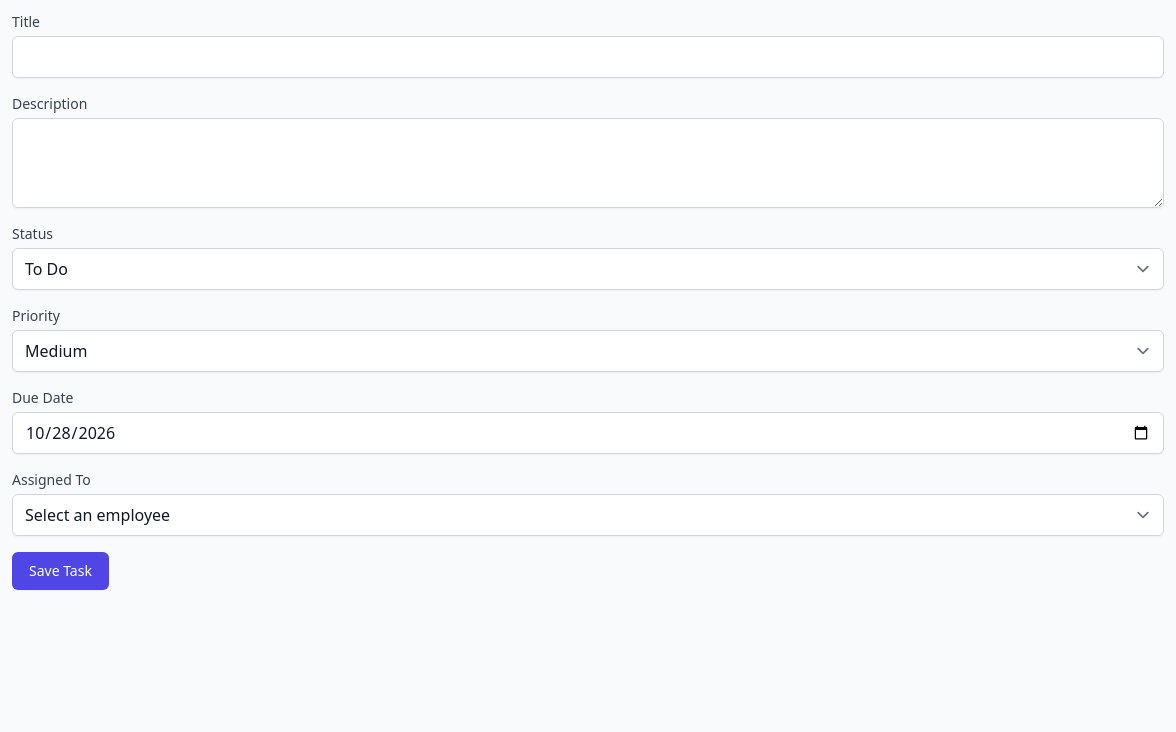
it: TaskForm › clears the title error as soon as the user types
This screenshot has width=1176, height=732.
Click the button "Save Task".
click(60, 571)  # box [12,552,109,590]
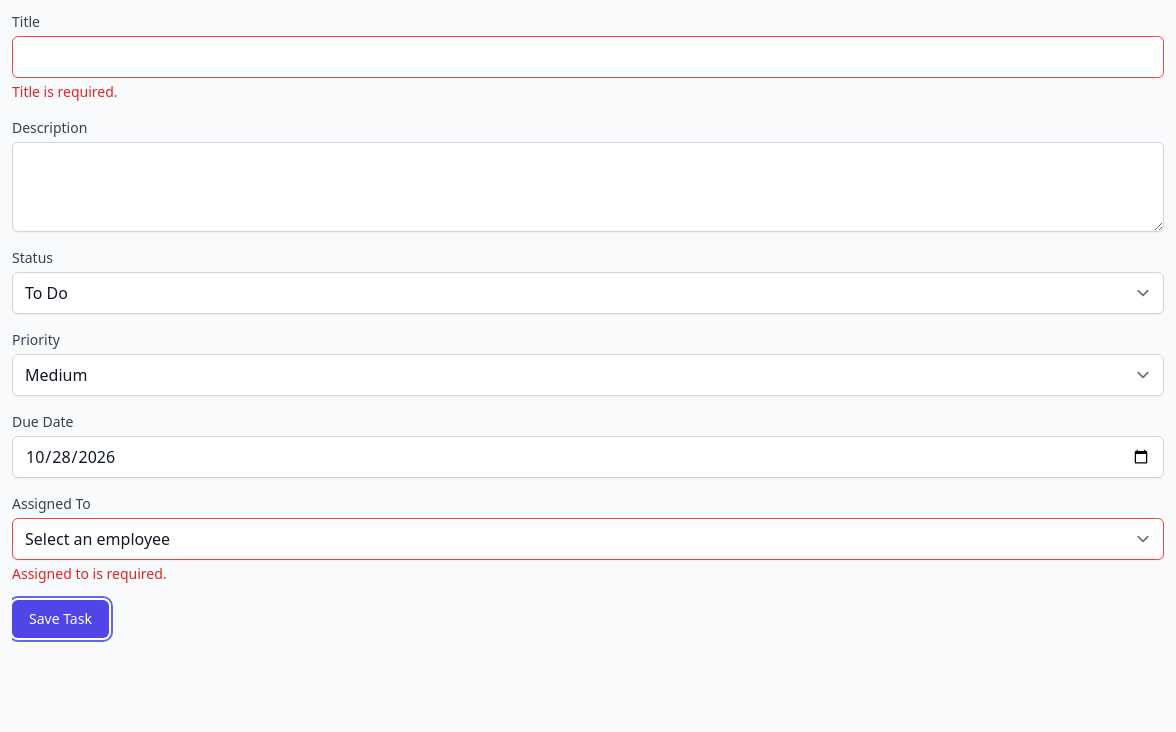
Expected: the text "Title is required." is shown, [12,82,118,101]
Type "a" into the field labelled "Title".
click(588, 57); type("a")  # box [12,36,1164,78]
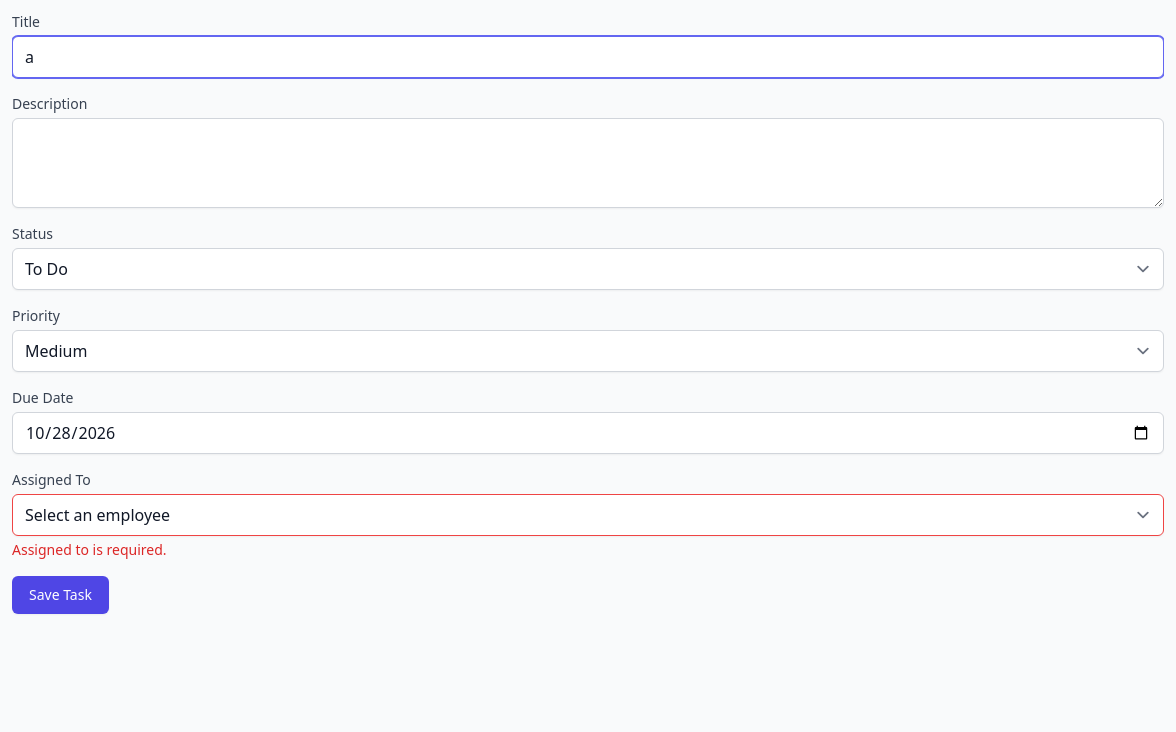
Expected: the text "Title is required." is gone
